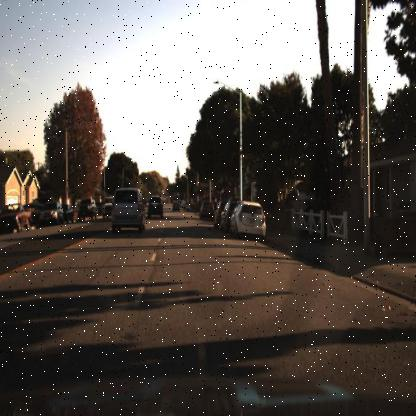car: (109, 184, 145, 232), (230, 199, 268, 243), (0, 201, 31, 233), (38, 197, 63, 226), (75, 196, 97, 226), (39, 200, 63, 224), (78, 197, 98, 221), (146, 194, 163, 221), (101, 194, 116, 222), (219, 198, 230, 234), (102, 192, 115, 218), (198, 199, 212, 222), (62, 199, 73, 226), (212, 198, 221, 230), (61, 202, 73, 225), (172, 200, 180, 216)
